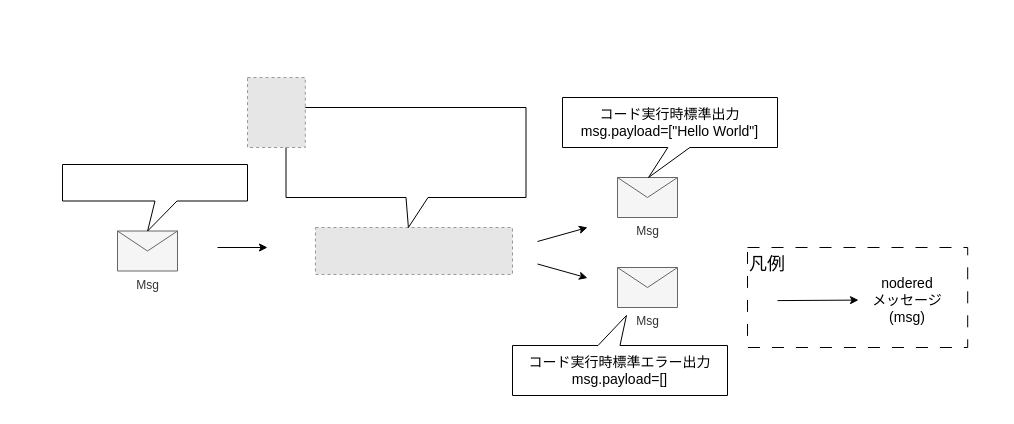
This 1014x424 diagram has some shape labels left out. Grey dashed boxes stand in for pictures. Here are the shapes that lost their labels. From the top down, the centre of each, then its label:
(405,167): import sys Printf(sys.argv[1])
(155,197): msg.payload="Hello World"
